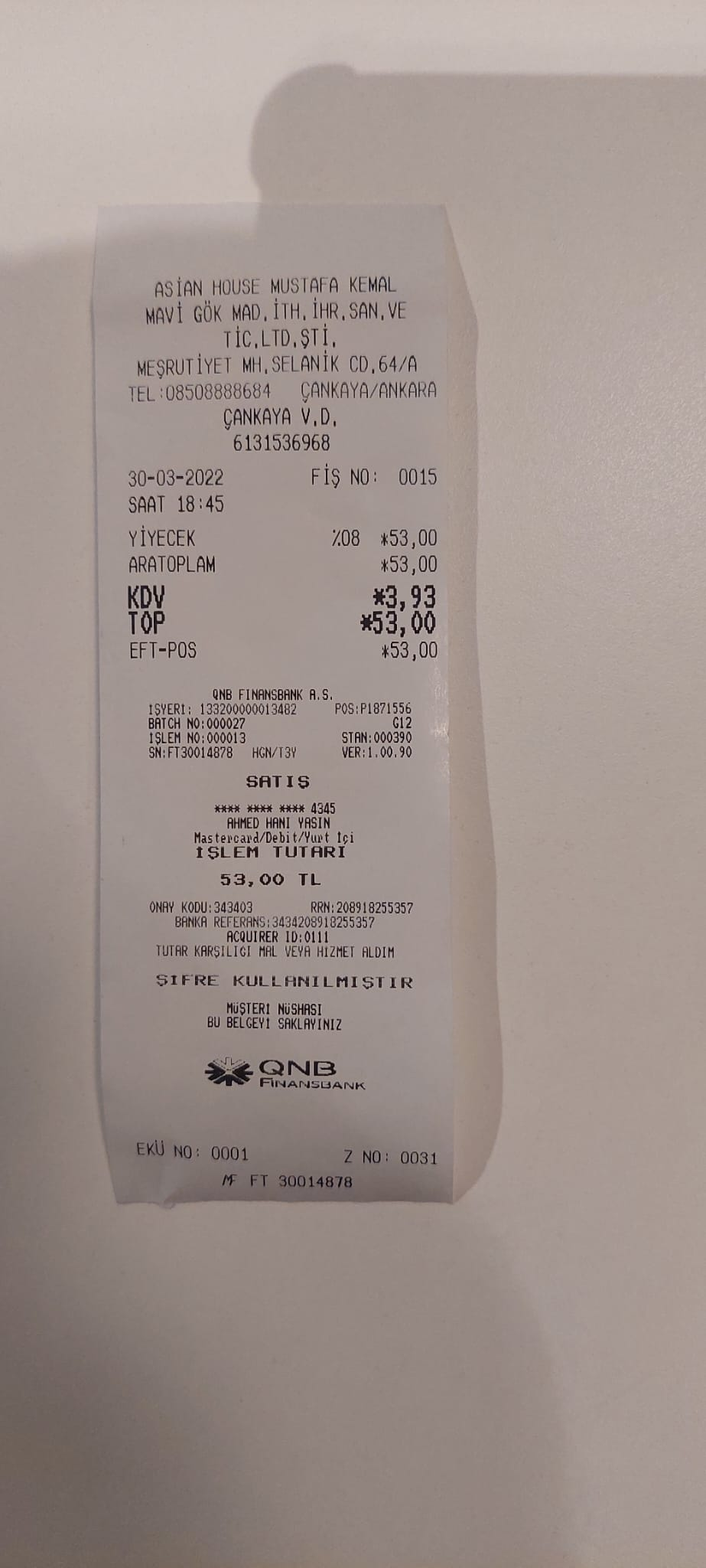date: (117, 460, 235, 492)
price: (368, 607, 446, 639)
workplace: (117, 269, 448, 379)
